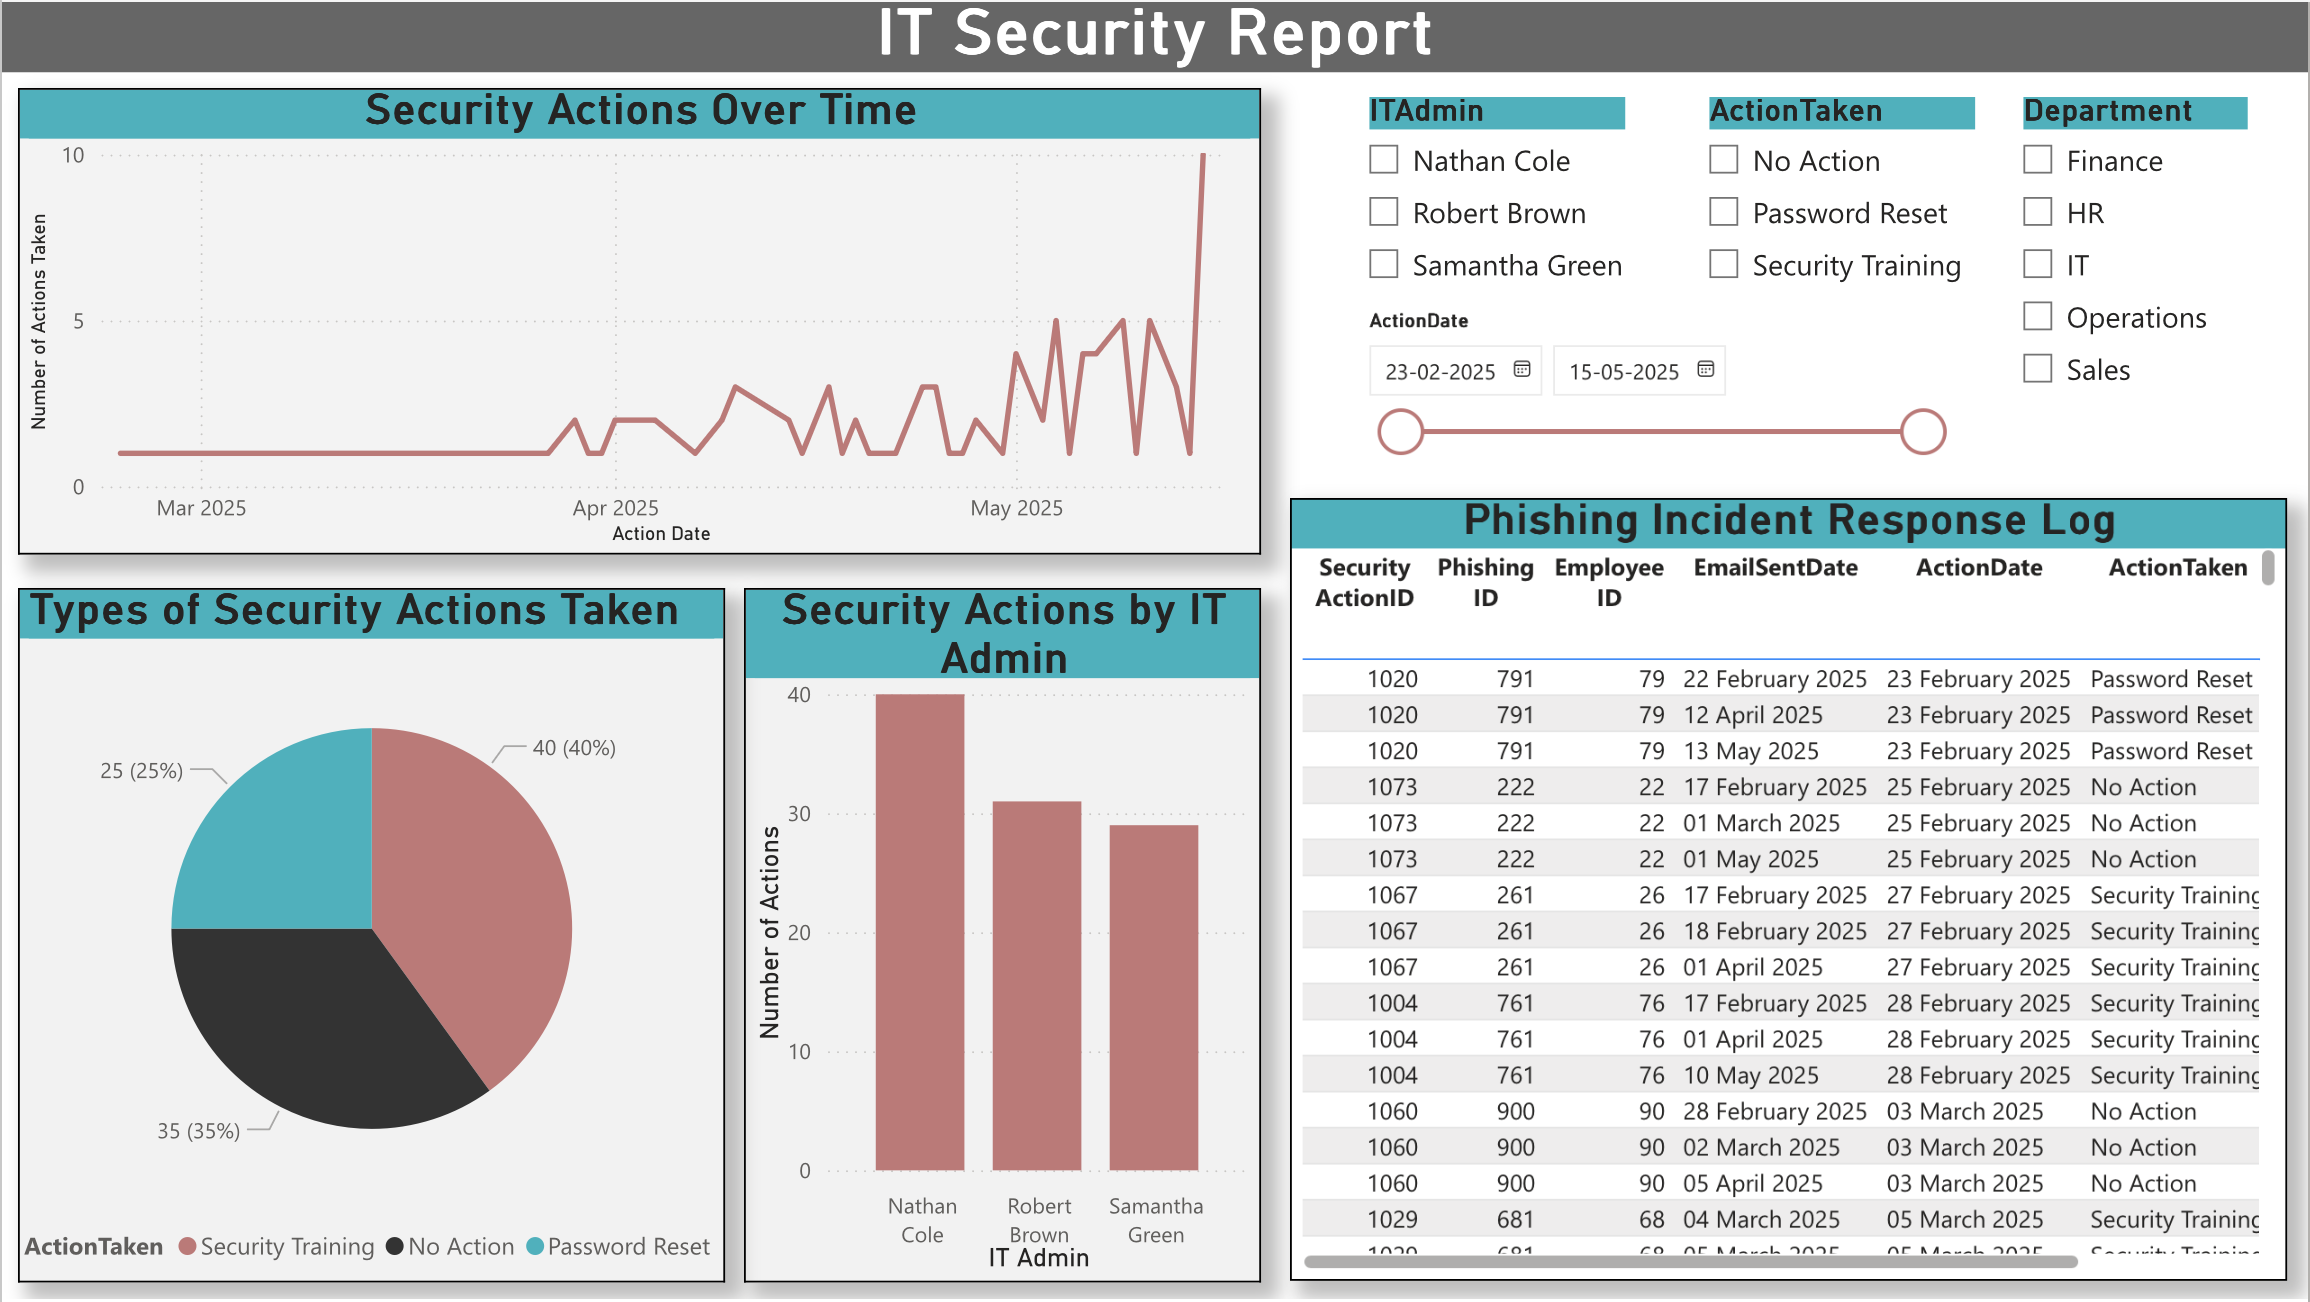

The dashboard page shown, as its layout file describes it:
{"tool":"powerbi","page":{"name":"IT","canvas":[1280,720],"ordinal":2},"visuals":[{"type":"lineChart","title":"Security Actions Over Time","fields":{"Y":["ITSecurityActions.SecurityActionID"],"Category":["ITSecurityActions.ActionDate"]},"box":[9.3,47.4,689.9,259],"z":0},{"type":"pieChart","title":"Types of Security Actions Taken","fields":{"Y":["ITSecurityActions.SecurityActionID"],"Category":["ITSecurityActions.ActionTaken"]},"box":[9.3,325,392.7,385.3],"z":1000},{"type":"columnChart","title":"Security Actions by IT Admin","fields":{"Category":["ITSecurityActions.ITAdmin"],"Y":["ITSecurityActions.SecurityActionID"]},"box":[412.2,325,286.9,385.3],"z":2000},{"type":"tableEx","title":"Phishing Incident Response Log","fields":{"Values":["ITSecurityActions.SecurityActionID","ITSecurityActions.PhishingID","ITSecurityActions.EmployeeID","PhishingCampaign.EmailSentDate","ITSecurityActions.ActionDate","ITSecurityActions.ActionTaken","ITSecurityActions.SecurityActionID"]},"box":[714.9,275.8,553.4,434.5],"z":3000},{"type":"slicer","fields":{"Values":["ITSecurityActions.ITAdmin"]},"box":[745.6,47.4,168.1,118.8],"z":4000},{"type":"slicer","fields":{"Values":["ITSecurityActions.ActionTaken"]},"box":[935,47.4,173.6,118.8],"z":5000},{"type":"slicer","fields":{"Values":["ITSecurityActions.ActionDate"]},"box":[745.6,166.2,341.7,91],"z":6000},{"type":"slicer","fields":{"Values":["Employee.Department"]},"box":[1108.6,47.4,150.4,186.6],"z":7000},{"type":"textbox","title":"IT Security Report","box":[0,0,1280.4,39],"z":8000}]}

Visuals, with their boxes in screenshot pixels (x1, y1, x2, y2), scaled from the page's 1280x720 canvas onto the 2310x1302 screenshot:
"Security Actions Over Time" lineChart: rect(17, 86, 1262, 554)
"Types of Security Actions Taken" pieChart: rect(17, 588, 725, 1284)
"Security Actions by IT Admin" columnChart: rect(744, 588, 1262, 1284)
"Phishing Incident Response Log" tableEx: rect(1290, 499, 2289, 1284)
slicer - ITSecurityActions.ITAdmin: rect(1346, 86, 1649, 301)
slicer - ITSecurityActions.ActionTaken: rect(1687, 86, 2001, 301)
slicer - ITSecurityActions.ActionDate: rect(1346, 301, 1962, 465)
slicer - Employee.Department: rect(2001, 86, 2272, 423)
"IT Security Report" textbox: rect(0, 0, 2309, 71)
